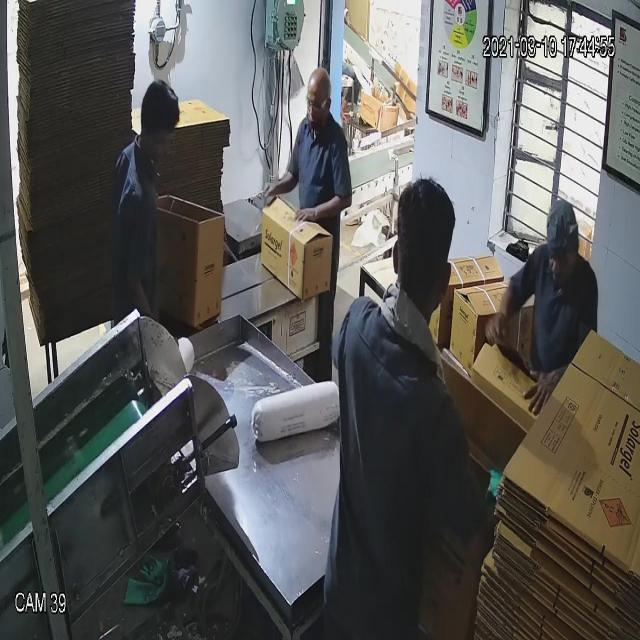No_Gloves: (38, 46, 502, 310)
